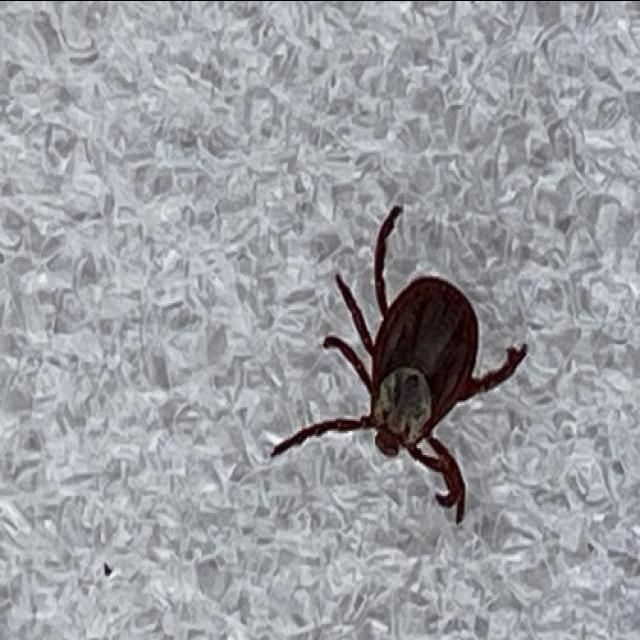Dermacentor Reticulatus-F: (273, 205, 527, 522)
